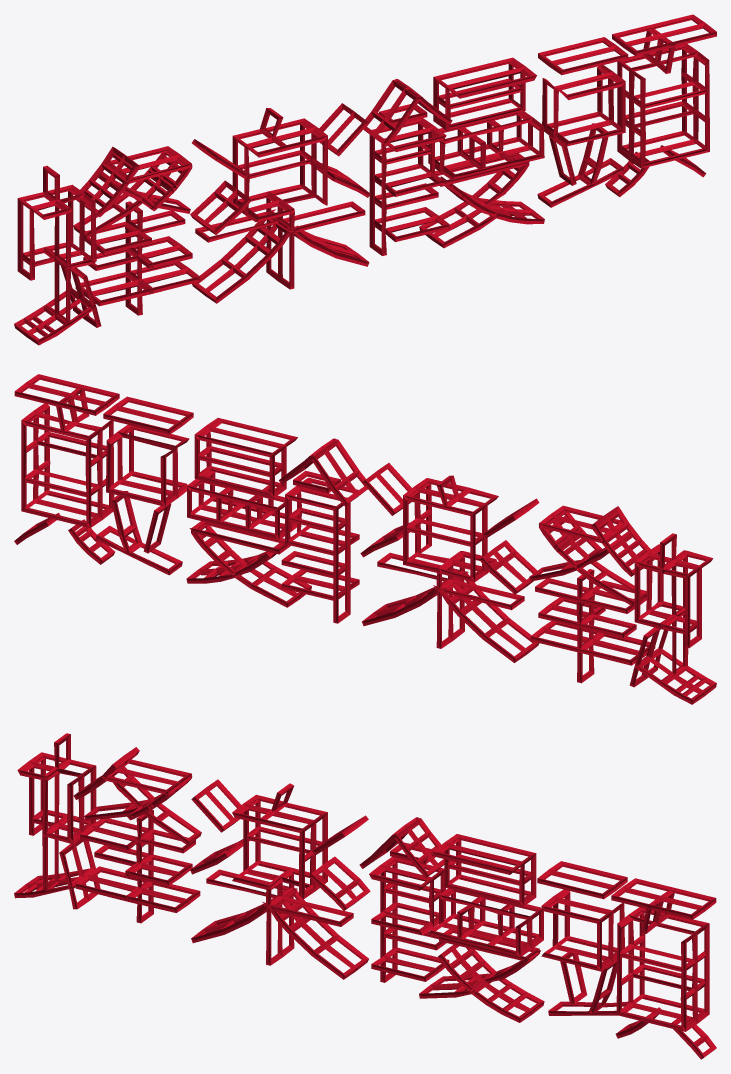
File: baked_houraku 2.fbx
The picture shows the model from 3 angles, top to bottom: view 1: azimuth 30°, elevation 25°; view 2: azimuth 150°, elevation 25°; view 3: azimuth 330°, elevation 25°; orthographic projection.
Visible parts, largest first — view 1: 蜂楽饅頭.001; view 2: 蜂楽饅頭.001; view 3: 蜂楽饅頭.001.
Boxes of the visible parts, x1,y1,x2,y2 form: 蜂楽饅頭.001: [14, 14, 716, 345]; 蜂楽饅頭.001: [14, 374, 716, 704]; 蜂楽饅頭.001: [14, 733, 716, 1059].
Size of the model in its own units: 283 by 65.37 by 17.94.
